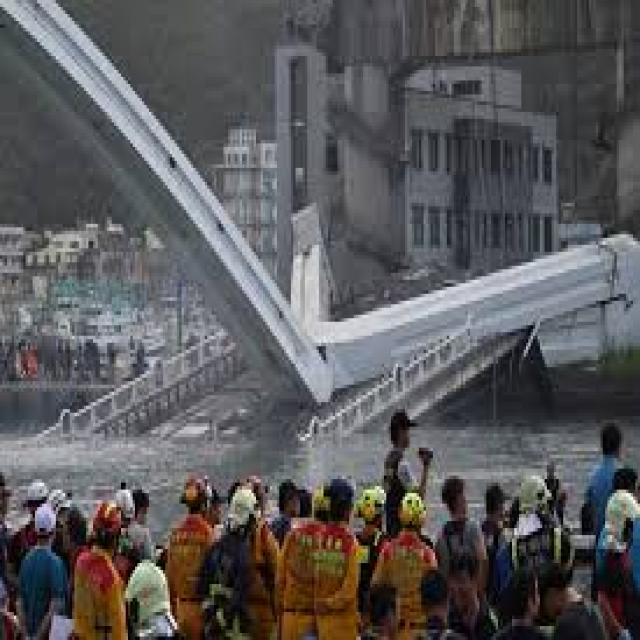bridge collapse: (34, 0, 639, 491)
